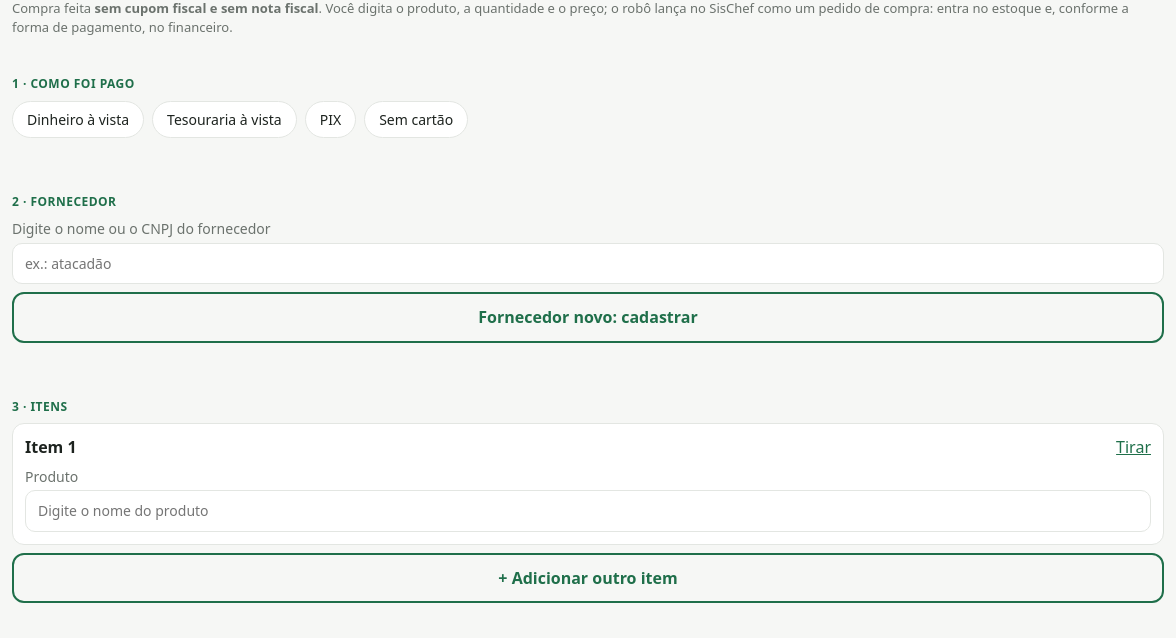
Test: CompraAvulsa › produto novo (cadastrar pelo app, pedido do Ivan de 13/10) › nada na lista com o que ele digitou: avisa "não cadastrado" com o botão
The image size is (1176, 638).
In the field with test id "busca-produto": (588, 511) [25, 490, 1151, 532], type "maionese hellmanns 3kg"
(page scrolled)
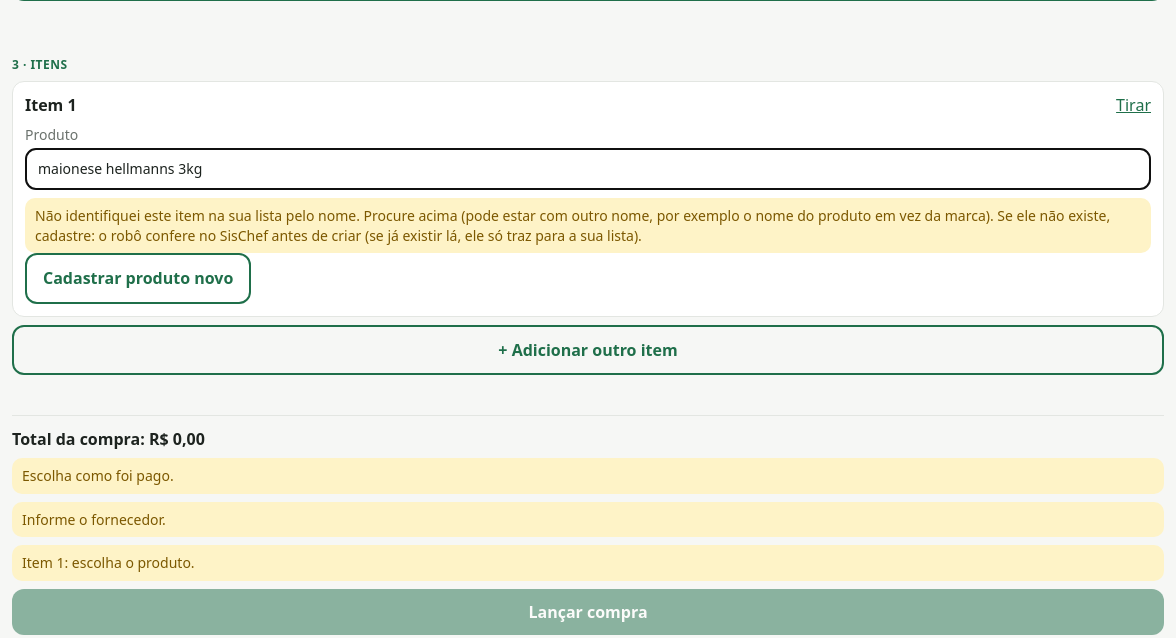
Check: the message with test id "aviso-nao-cadastrado" shows "Não identifiquei este item", box [35, 206, 1110, 244]
Check: the button with test id "abrir-cadastro-produto" is shown, box [25, 253, 251, 304]
